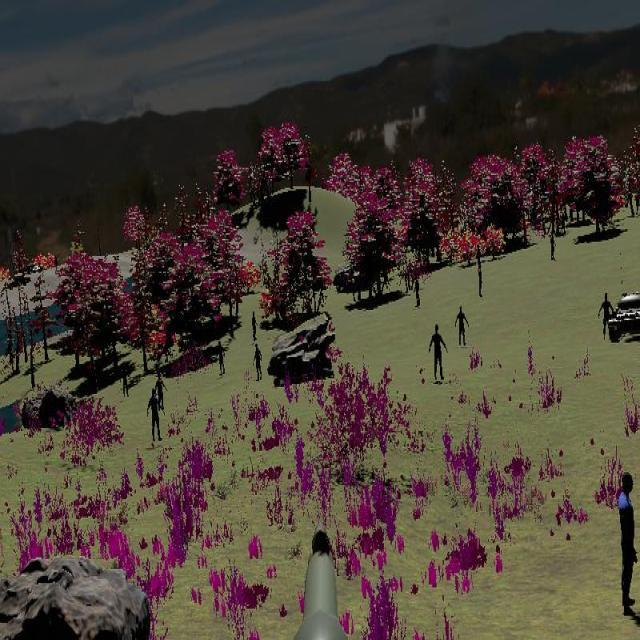Human: (618, 470, 638, 615)
Tank: (607, 288, 640, 343)
